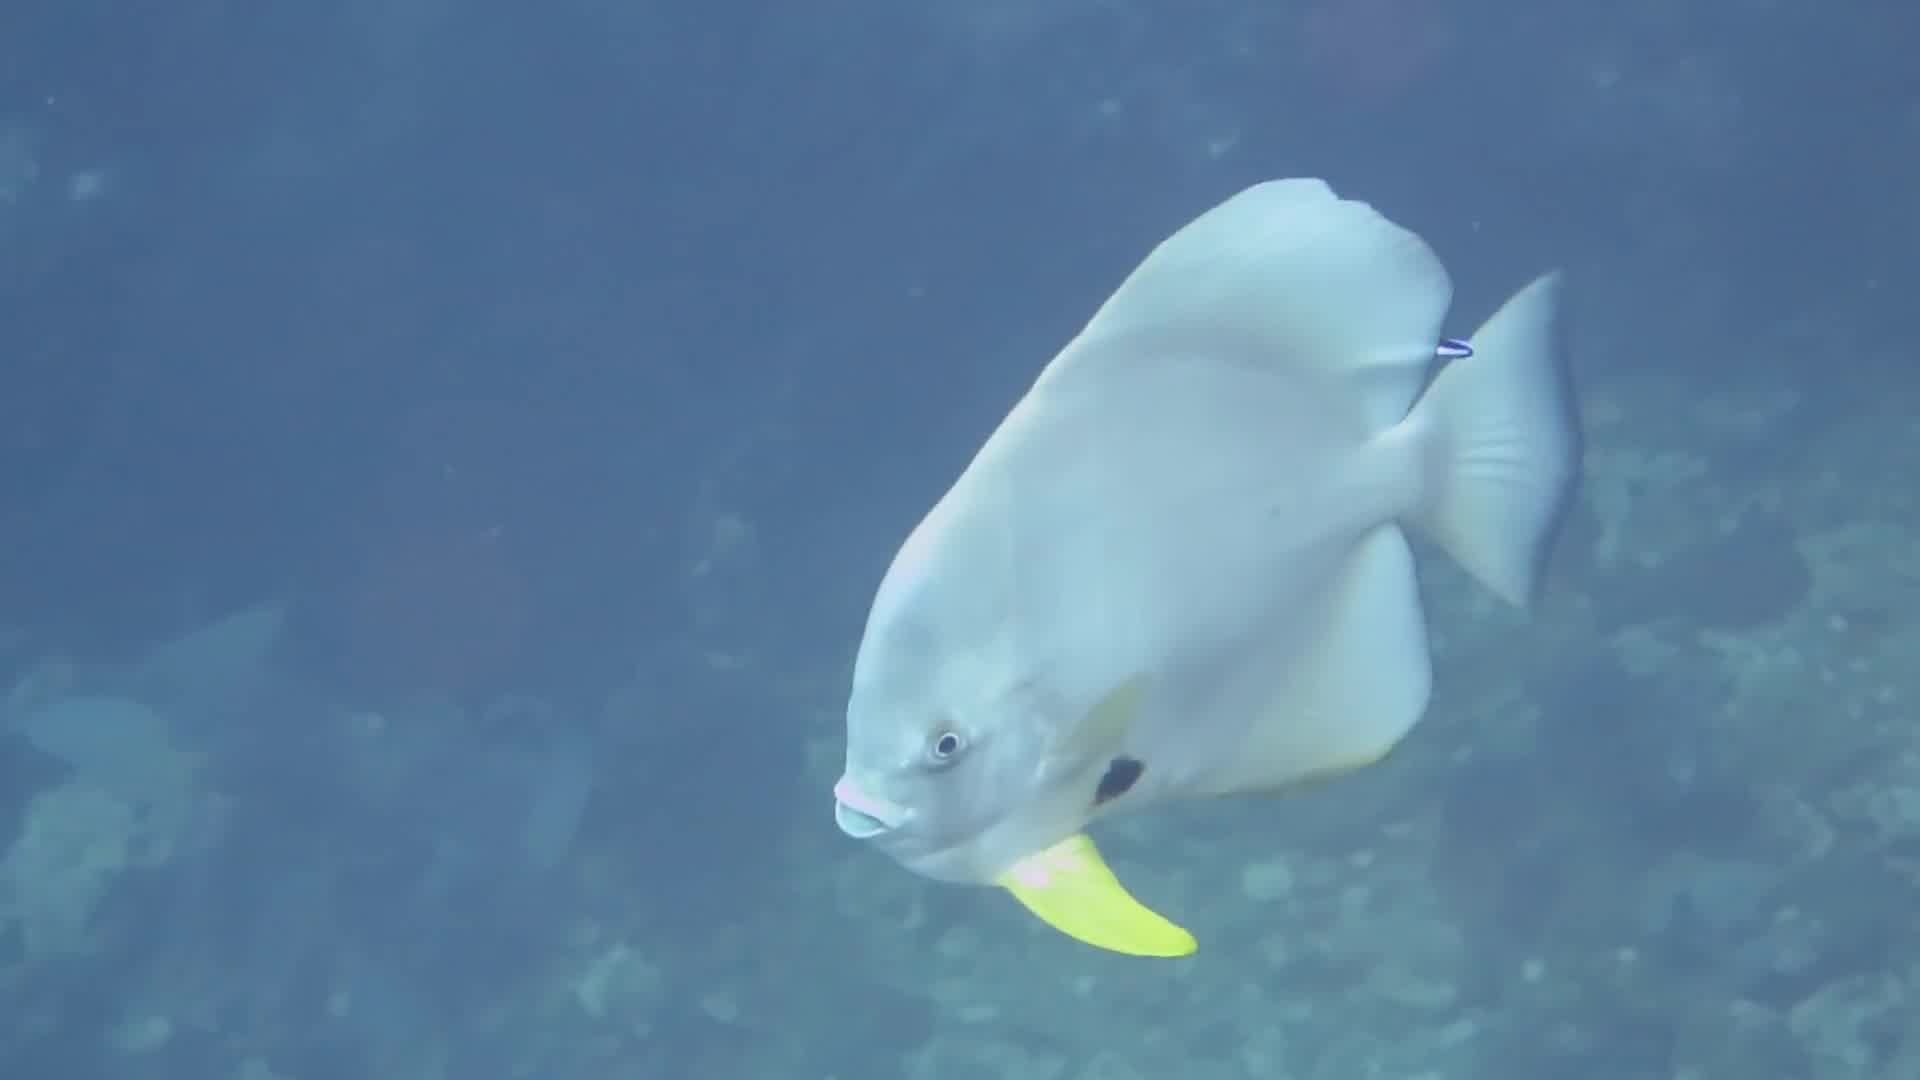Platax teira: (798, 153, 1626, 975)
